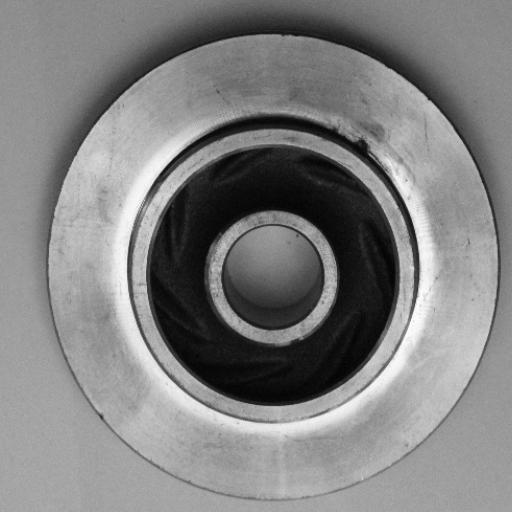crack: (347, 124, 382, 171)
unpolished_casting: (45, 34, 499, 503)
